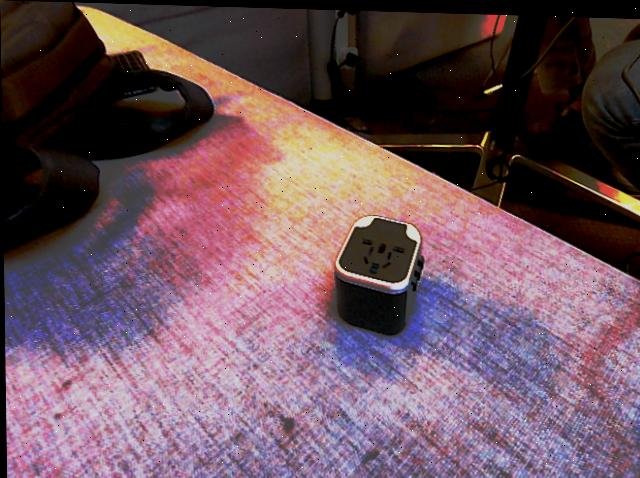adapter: (332, 211, 424, 334)
